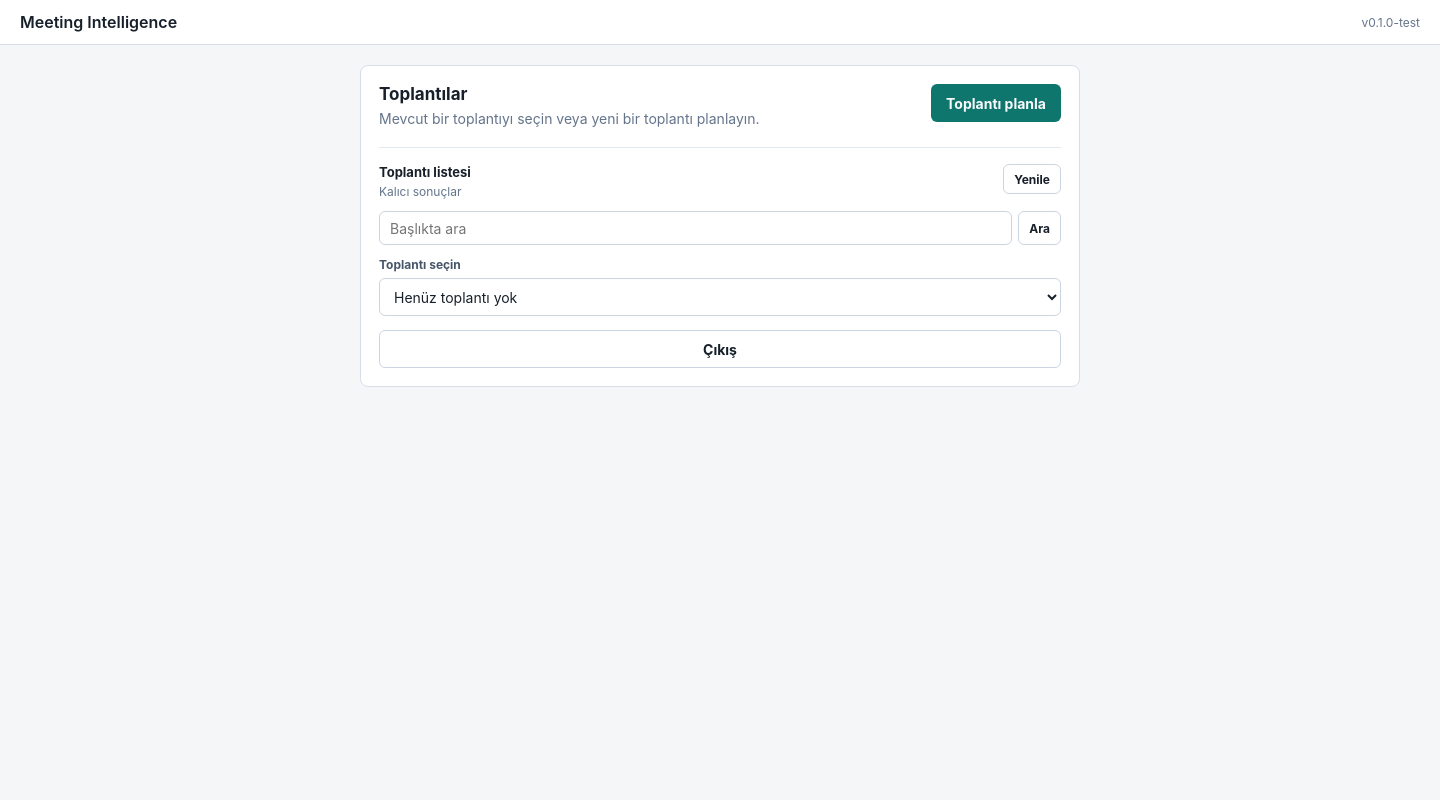
Scenario: App recorder readiness › meeting contract olusturma cagrilarini hizli tekrar tiklamada tekillestirir
Click the button "Toplantı planla". click: (996, 103)
box: [931,84,1061,122]
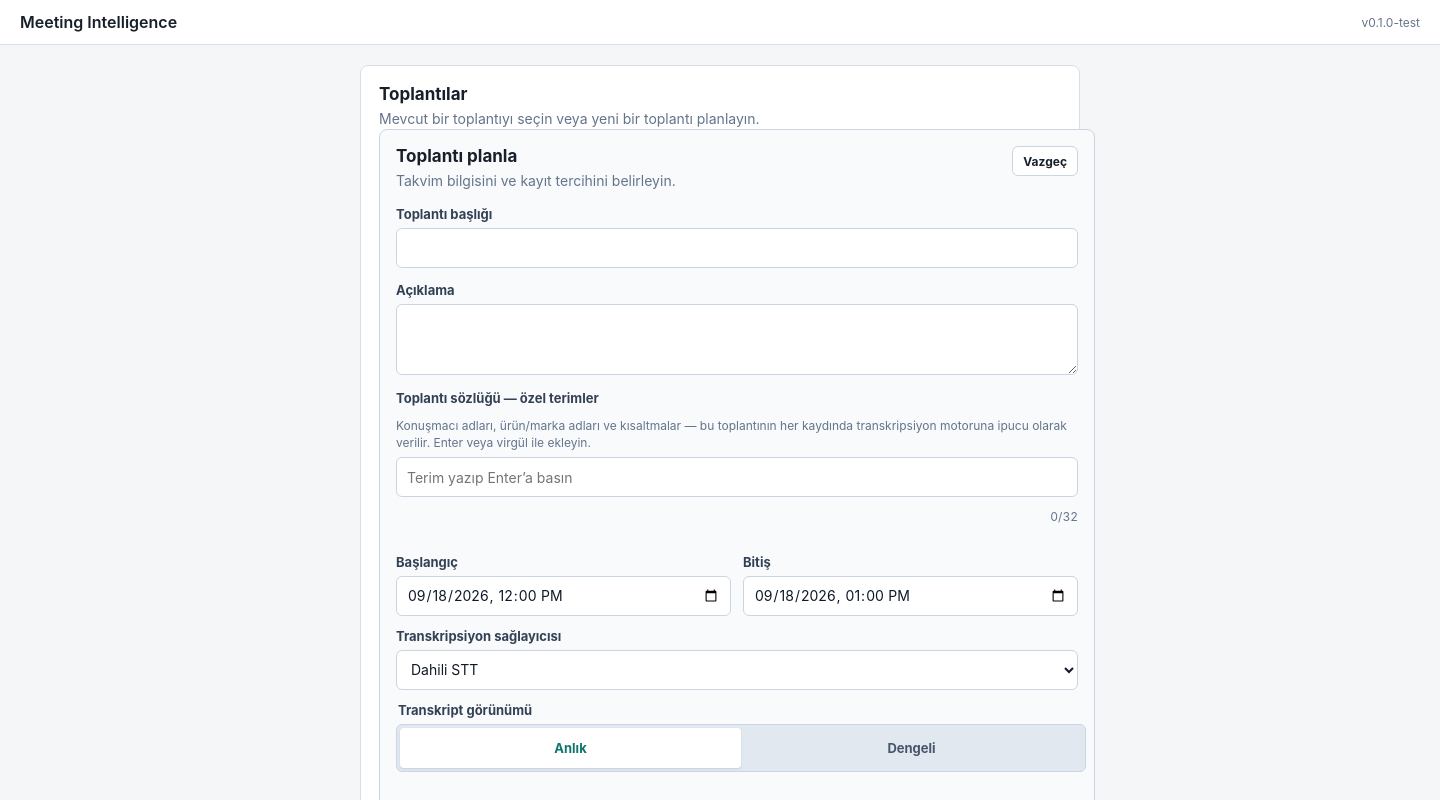
Type "Faz 24 karar toplantısı" into the field labelled "Toplantı başlığı". click: (737, 248)
box: [396,228,1078,268]
(page scrolled)
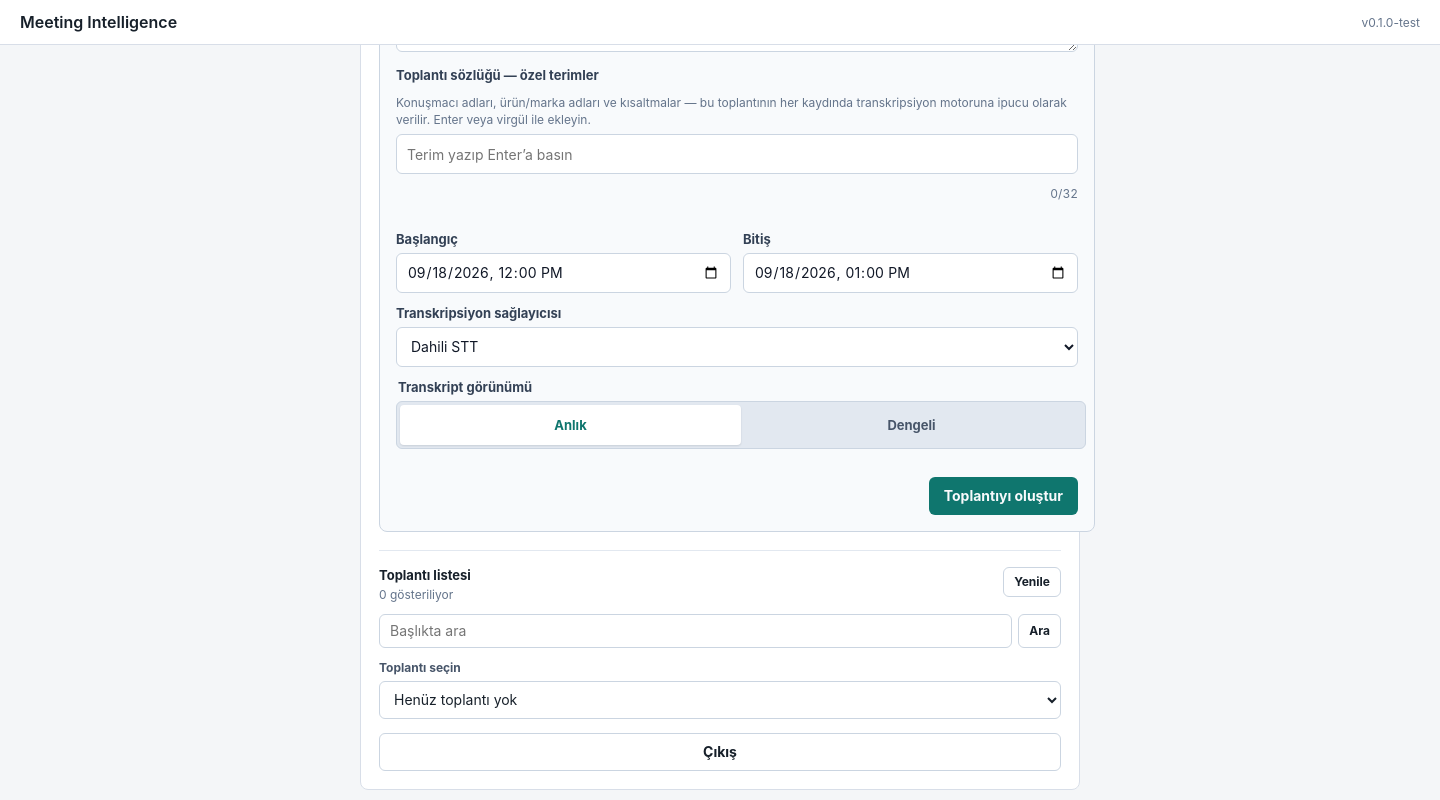
Click the button "Toplantıyı oluştur". click: (1003, 496)
box: [929,477,1078,515]
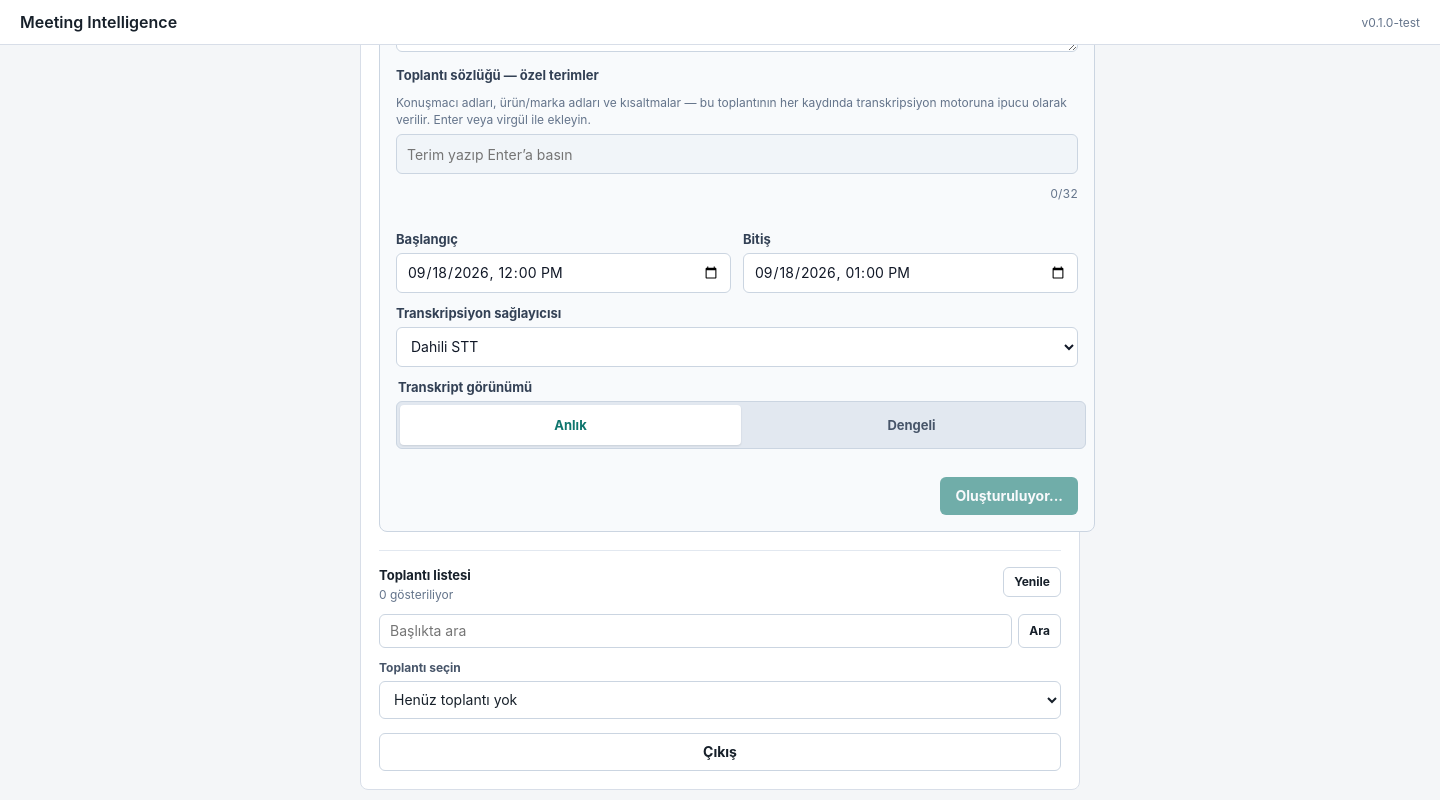
Click the button named "Toplantıyı oluştur". click: (1009, 496)
box: [940,477,1078,515]
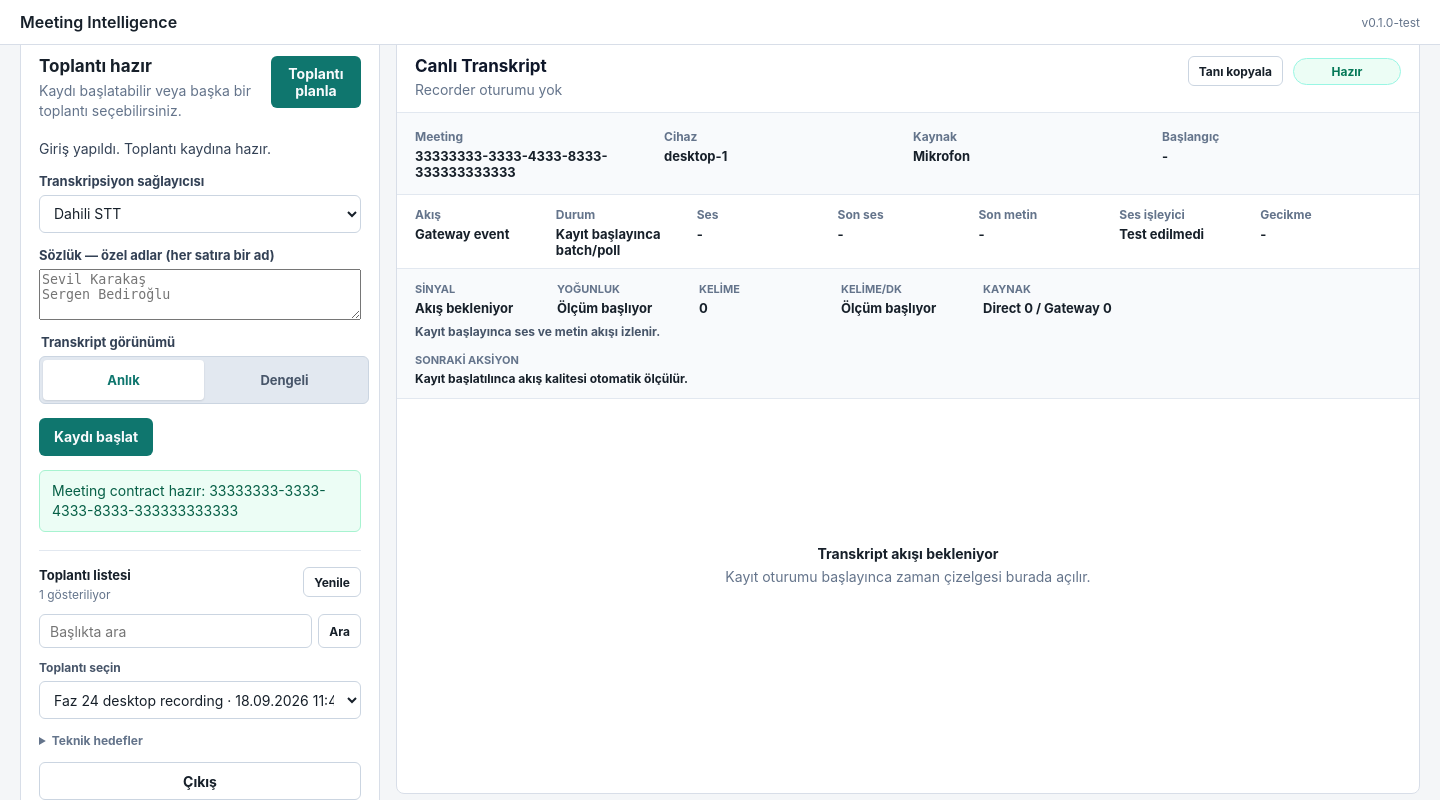
Expected: the text "Meeting contract hazır: 33333333-3333-4333-8333-333333333333" is shown, [39,470,361,532]
